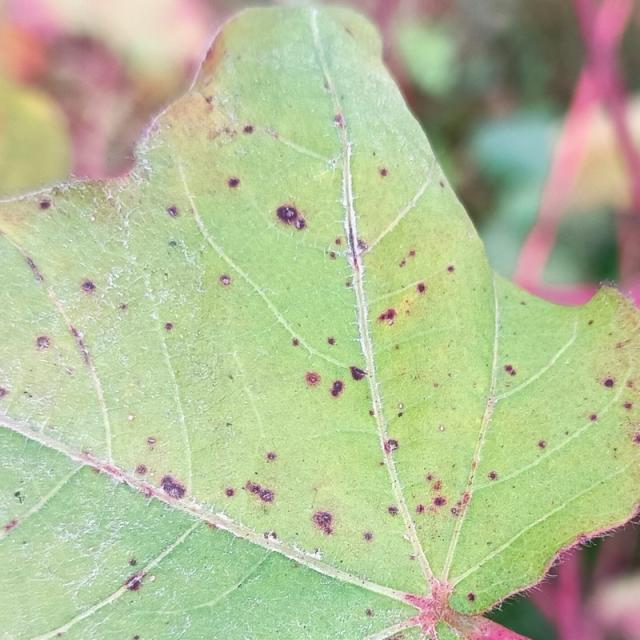Bacterial_Blight: (591, 365, 639, 430), (265, 193, 312, 241), (378, 284, 431, 326), (411, 474, 456, 518), (303, 367, 355, 398), (329, 231, 370, 261), (122, 570, 154, 595), (159, 474, 188, 500), (244, 480, 275, 504), (311, 510, 335, 536), (396, 249, 417, 269), (24, 256, 42, 278), (79, 278, 97, 294), (382, 438, 399, 454), (349, 366, 367, 381), (379, 308, 396, 323), (305, 371, 321, 386), (36, 335, 51, 349), (245, 481, 259, 496), (166, 205, 180, 218), (219, 274, 232, 286), (503, 364, 516, 376), (38, 199, 51, 210), (615, 340, 630, 349), (228, 177, 240, 188), (135, 464, 147, 475), (602, 377, 615, 387), (387, 505, 399, 515), (416, 282, 426, 293), (487, 471, 498, 481), (432, 480, 442, 491), (415, 504, 425, 514), (321, 512, 331, 522), (333, 114, 342, 125), (266, 452, 277, 461), (243, 125, 254, 134), (379, 167, 388, 177), (327, 336, 336, 346), (537, 440, 547, 449), (588, 413, 598, 422), (363, 532, 373, 541), (225, 488, 235, 497), (446, 264, 455, 273), (164, 322, 173, 331), (467, 593, 476, 602), (323, 81, 331, 91), (626, 380, 635, 388), (426, 473, 434, 482), (328, 251, 337, 259), (118, 303, 128, 310), (335, 237, 342, 246), (292, 338, 299, 346), (399, 259, 406, 267), (409, 250, 416, 257), (439, 180, 445, 188), (588, 319, 594, 325)
Cotton: (0, 6, 639, 639)
